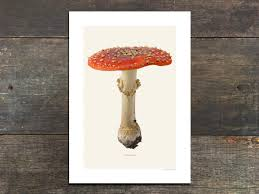Amanita muscaria: (84, 44, 174, 151)
